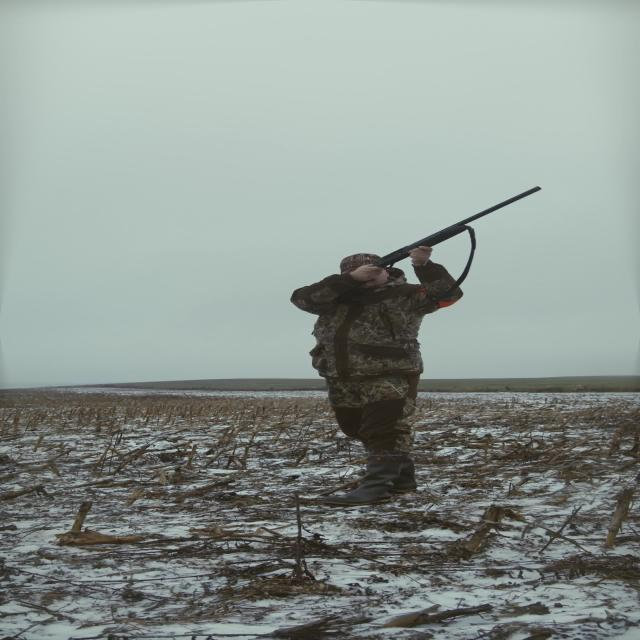poacher: (286, 228, 480, 488)
weapon: (383, 182, 544, 264)
